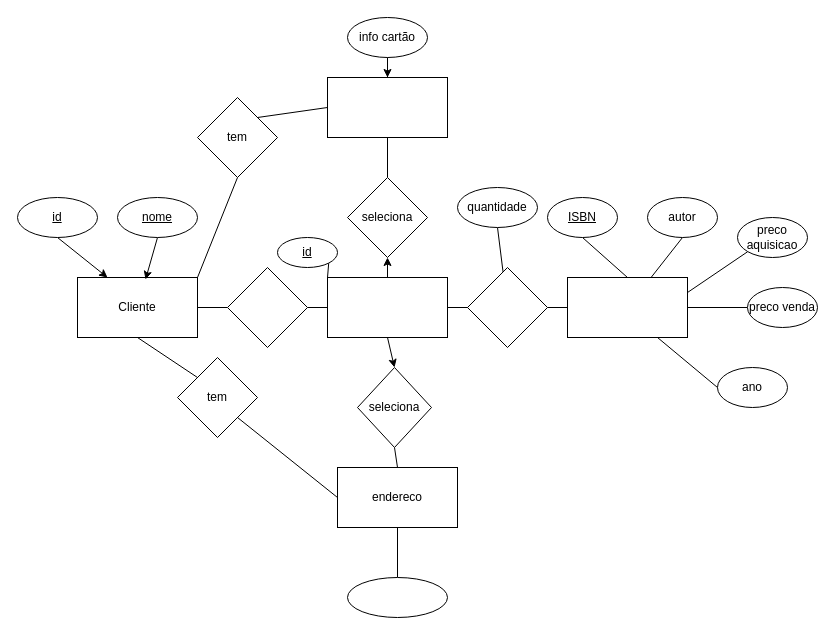
Some shapes in this 835 by 635 pixel diagram are drawn without their labels. Each missing label, with the box of its shape:
cartao de credito: (326, 76, 448, 138)
escolhe: (466, 266, 548, 348)
faz: (226, 266, 308, 348)
info endereco: (346, 576, 448, 618)
livro: (566, 276, 688, 338)
pedido: (326, 276, 448, 338)
